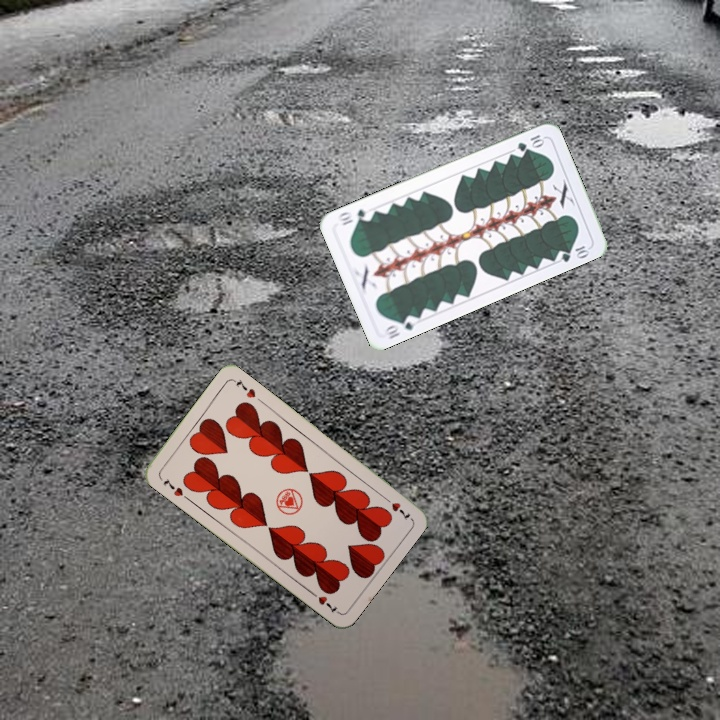G10: (380, 311, 420, 341), (513, 130, 547, 154)
H7: (379, 492, 413, 522), (159, 474, 186, 499)
